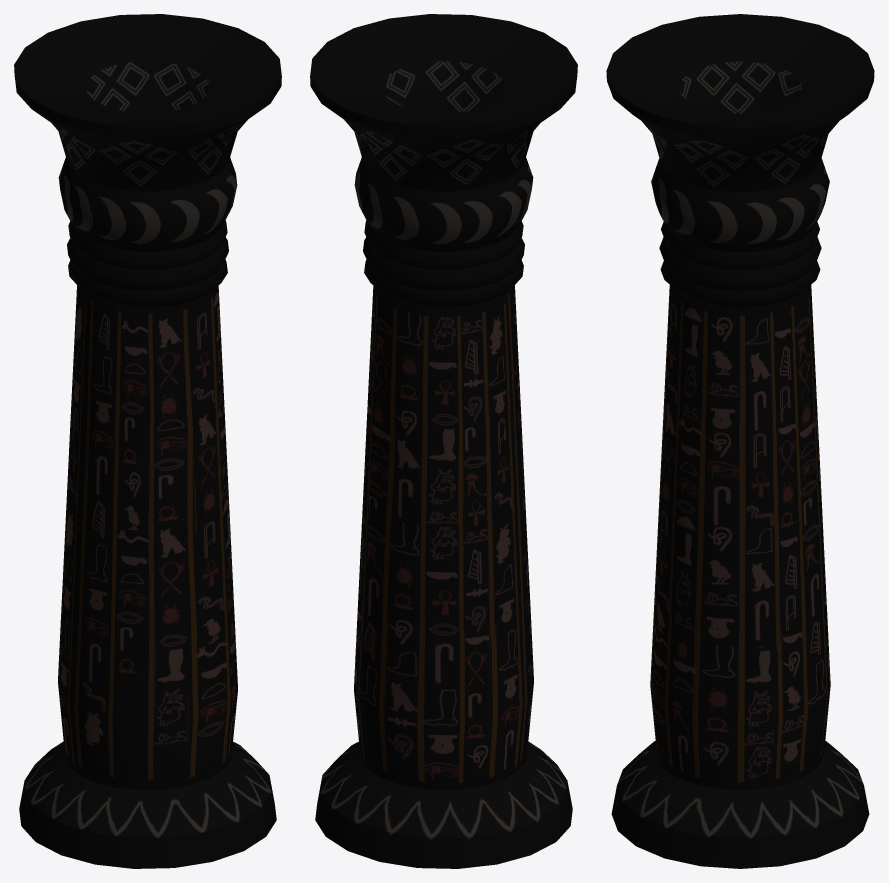
File: egyptian_pillar_v2.glb
3 views of the same model, side by side, from view 1: azimuth 30°, elevation 25°; view 2: azimuth 150°, elevation 25°; view 3: azimuth 270°, elevation 25° (orthographic).
Visible parts, largest first — view 1: pCylinder1; view 2: pCylinder1; view 3: pCylinder1.
Part boxes in pixels (box(x1,y1,x2,y2)): pCylinder1: box(14, 14, 281, 868); pCylinder1: box(310, 14, 577, 868); pCylinder1: box(606, 14, 874, 868).
Size of the model in its own units: 2.02 by 6.14 by 2.01.
1 material, 1 textured.
